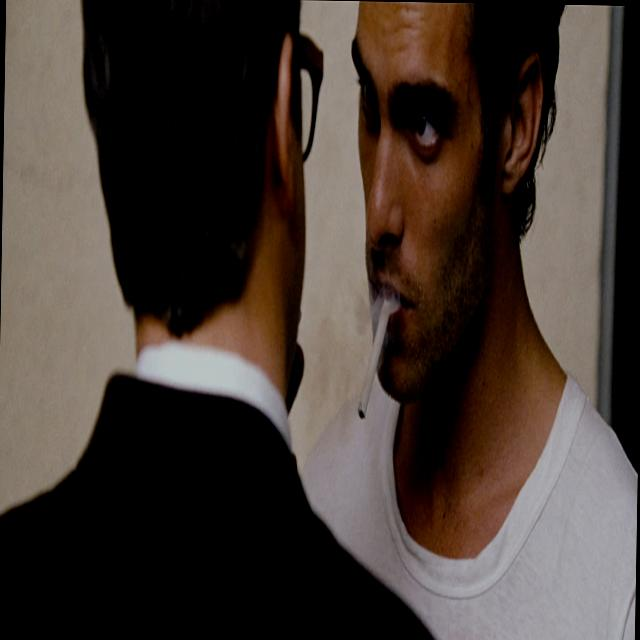cigarette: (356, 291, 394, 408)
